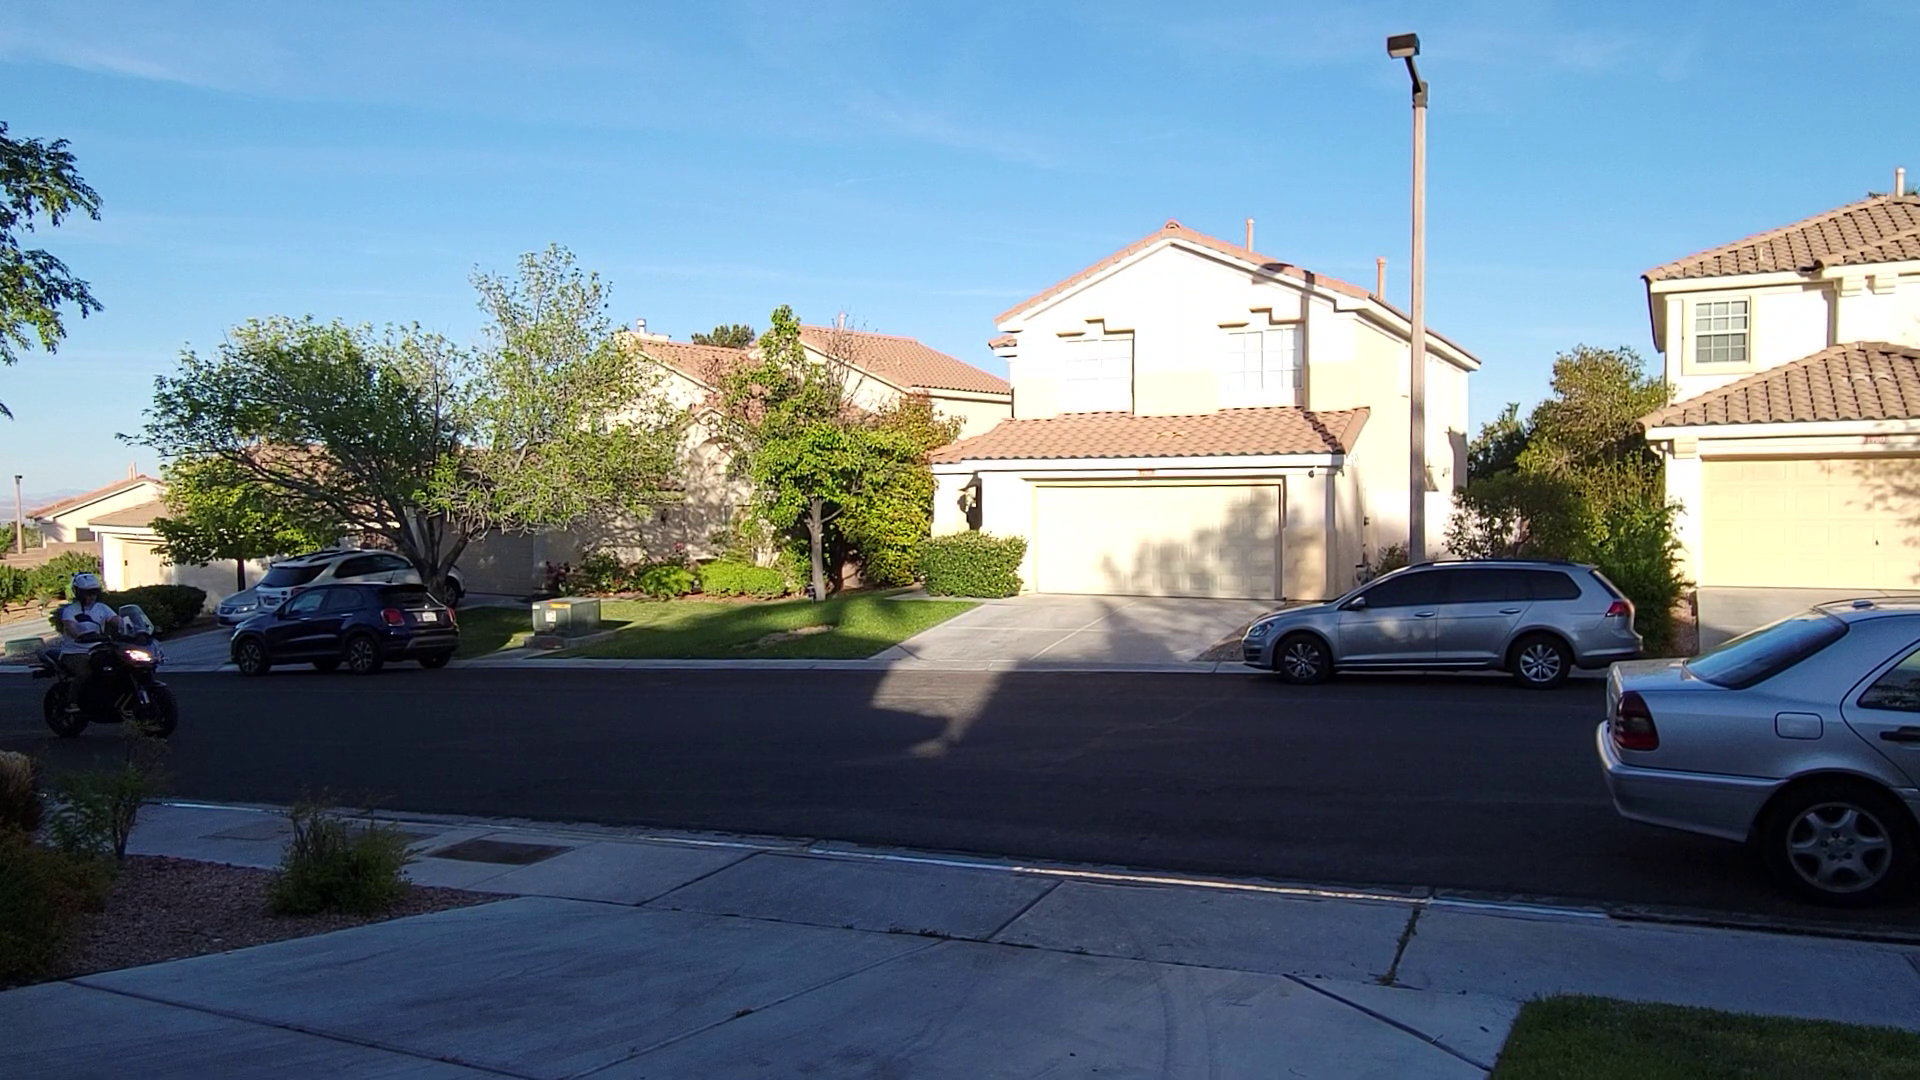my bike: (25, 570, 182, 741)
